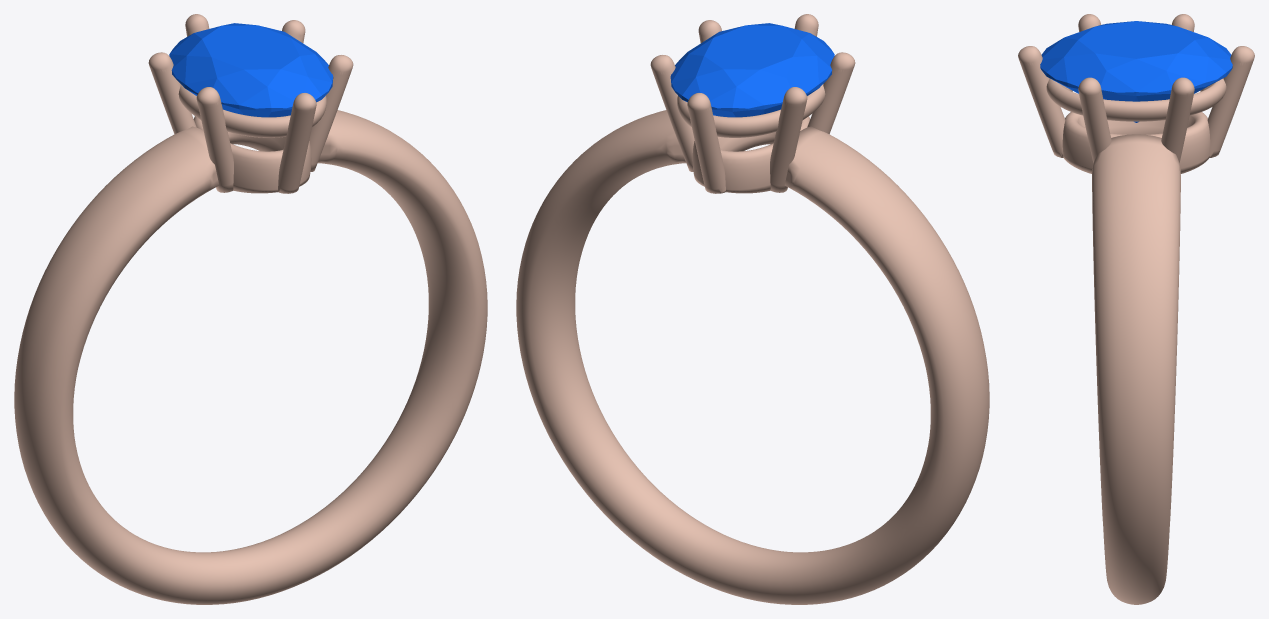
The model's file is bluesapphire-oval-rosegold-6prong-taperedband-nosidestones.glb.
3 renders of one model, left to right at view 1: azimuth 30°, elevation 25°; view 2: azimuth 150°, elevation 25°; view 3: azimuth 270°, elevation 25°, orthographic.
Visible parts, largest first — view 1: metal, stone; view 2: metal, stone; view 3: metal, stone.
Part boxes in pixels (bbox=[...]): metal: bbox=[14, 14, 487, 604]; stone: bbox=[169, 23, 333, 117]; metal: bbox=[516, 14, 989, 604]; stone: bbox=[670, 23, 834, 117]; metal: bbox=[1018, 14, 1254, 604]; stone: bbox=[1040, 21, 1232, 122].
Size of the model in its own units: 20.48 by 23.4 by 9.29.
